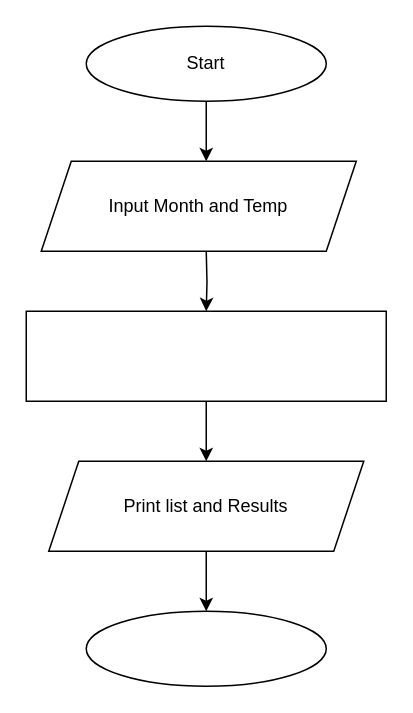
This 413x713 diagram has some shape labels left out. The shapes that lost their labels are listed below. From the top down, each one's box as (x1, y1, x2, y2) in pixels, then its label:
(25, 310, 386, 401): Calculate highest, Lowest, and Average Temp
(85, 610, 326, 686): Stop
